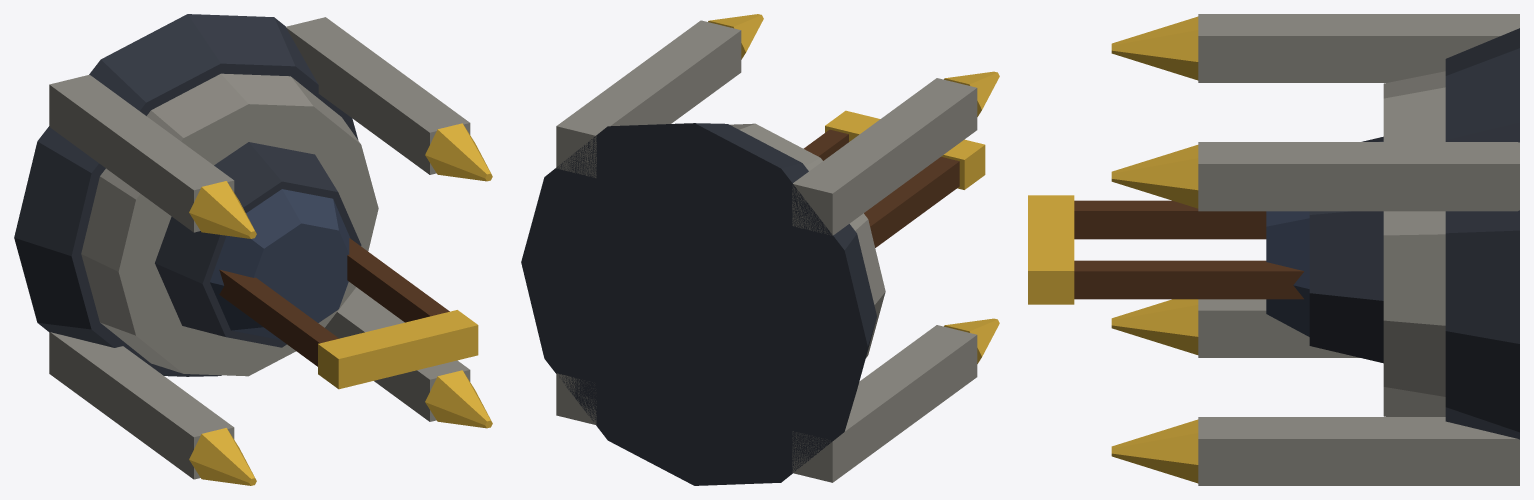
File: SM_DragonRoost.obj
The picture shows the model from 3 angles, left to right: view 1: azimuth 30°, elevation 25°; view 2: azimuth 150°, elevation 25°; view 3: azimuth 270°, elevation 25°; orthographic projection. The views are drawn at different scales.
Visible parts, largest first — view 1: SM_DragonRoost_stone, SM_DragonRoost_basalt, SM_DragonRoost_gold, SM_DragonRoost_slate, SM_DragonRoost_timber; view 2: SM_DragonRoost_basalt, SM_DragonRoost_stone, SM_DragonRoost_gold, SM_DragonRoost_timber; view 3: SM_DragonRoost_stone, SM_DragonRoost_basalt, SM_DragonRoost_gold, SM_DragonRoost_timber, SM_DragonRoost_slate.
Part boxes in pixels (bbox=[...]): SM_DragonRoost_stone: bbox=[49, 17, 470, 479]; SM_DragonRoost_basalt: bbox=[14, 14, 361, 376]; SM_DragonRoost_gold: bbox=[189, 123, 492, 485]; SM_DragonRoost_slate: bbox=[210, 189, 350, 339]; SM_DragonRoost_timber: bbox=[219, 238, 449, 366]; SM_DragonRoost_basalt: bbox=[521, 123, 876, 485]; SM_DragonRoost_stone: bbox=[556, 20, 977, 482]; SM_DragonRoost_gold: bbox=[708, 14, 999, 363]; SM_DragonRoost_timber: bbox=[803, 129, 959, 247]; SM_DragonRoost_stone: bbox=[1198, 14, 1519, 485]; SM_DragonRoost_basalt: bbox=[1309, 28, 1519, 439]; SM_DragonRoost_gold: bbox=[1028, 16, 1198, 483]; SM_DragonRoost_timber: bbox=[1074, 200, 1303, 299]; SM_DragonRoost_slate: bbox=[1266, 211, 1309, 336].
Size of the model in its own units: 720 by 720 by 795.
